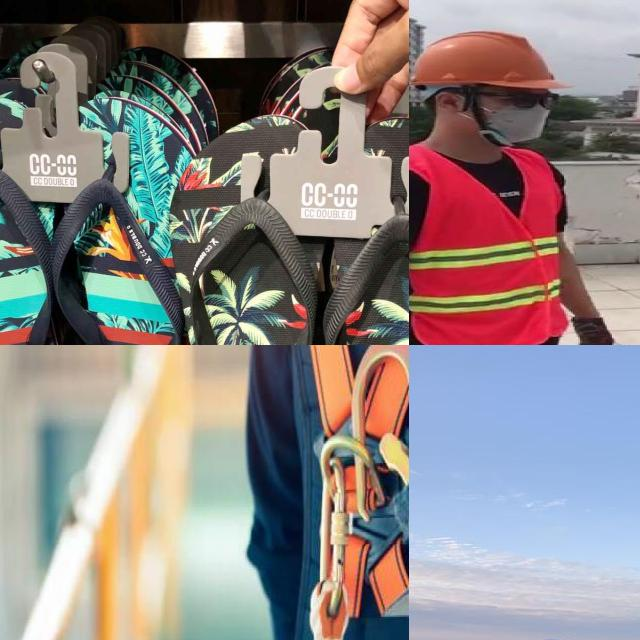Harness: (263, 345, 409, 640)
No_Ear-Protection: (433, 86, 471, 121)
Sandals: (166, 92, 409, 345), (0, 68, 202, 345)
head_helmet: (409, 27, 561, 91)
person: (409, 26, 614, 345)
vest: (409, 149, 567, 345)
